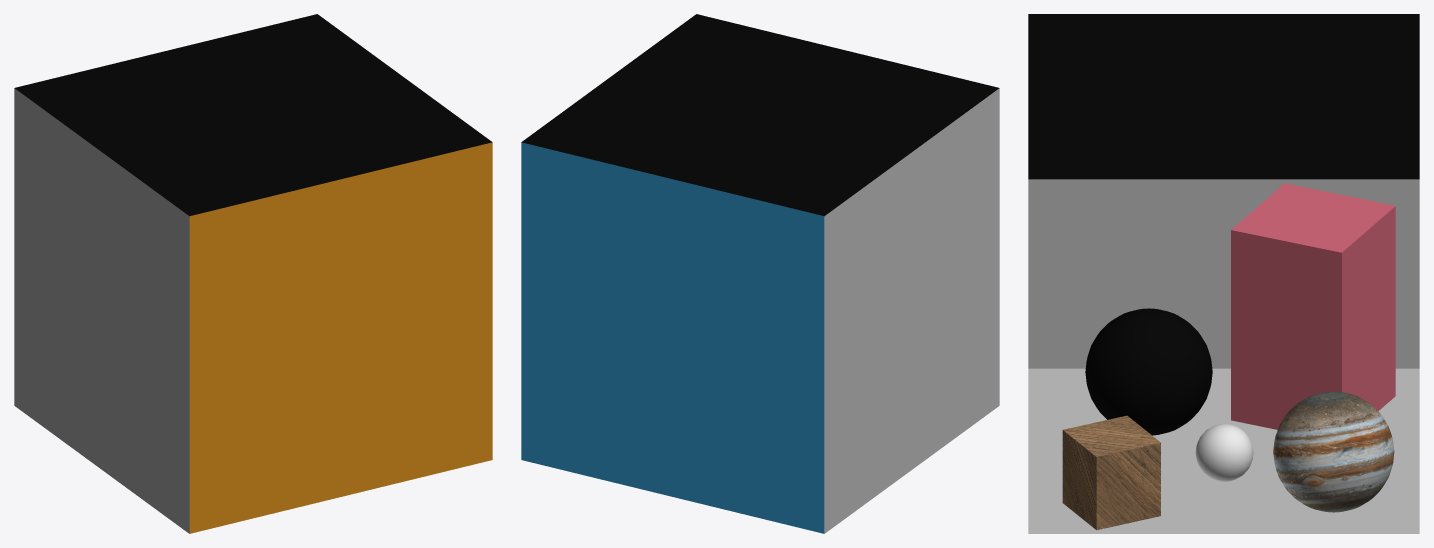
File: testScene_path_trace.dae
3 views of the same model, side by side, from view 1: azimuth 30°, elevation 25°; view 2: azimuth 150°, elevation 25°; view 3: azimuth 270°, elevation 25° (orthographic). The views are drawn at different scales.
Parts seen in each view (by area): view 1: Cube_013; view 2: Cube_013; view 3: Cube_013, Cube_014, Sphere_002, Sphere_004, Cube_015, Sphere_003.
Part boxes in pixels (<box>): Cube_013: <box>14,14,492,533</box>; Cube_013: <box>521,14,999,533</box>; Cube_013: <box>1028,14,1419,533</box>; Cube_014: <box>1231,183,1395,429</box>; Sphere_002: <box>1085,308,1212,435</box>; Sphere_004: <box>1273,391,1394,512</box>; Cube_015: <box>1062,415,1160,530</box>; Sphere_003: <box>1195,424,1253,481</box>.
Size of the model in its own units: 3.4 by 3.37 by 3.37.
9 materials, 2 textured.
